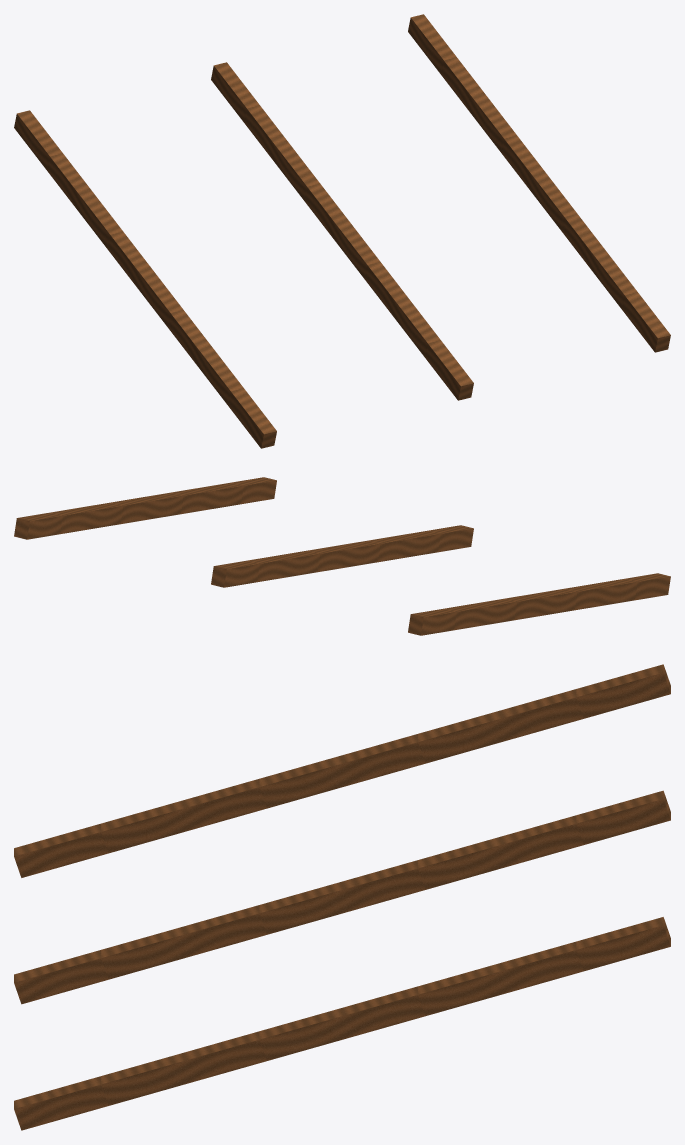
The model's file is estate_roof_slope_1b.glb.
3 views of the same model, one above another, from view 1: azimuth 30°, elevation 25°; view 2: azimuth 150°, elevation 25°; view 3: azimuth 270°, elevation 25° (orthographic). The views are drawn at different scales.
Visible parts, largest first — view 1: Cube.001, Cube, Cube.002; view 2: Cube, Cube.002, Cube.001; view 3: Cube, Cube.001, Cube.002.
Part boxes in pixels (x1,y1,x2,y2): Cube.001: (211,62,473,400); Cube: (14,110,276,448); Cube.002: (408,14,670,352); Cube: (408,573,670,635); Cube.002: (14,477,276,539); Cube.001: (211,525,473,587); Cube: (14,664,670,877); Cube.001: (14,790,670,1004); Cube.002: (14,917,670,1130).
Bounding box in the file's own units: 3.72 × 1.37 × 3.96.
Materials: 1 (1 with a texture image).
